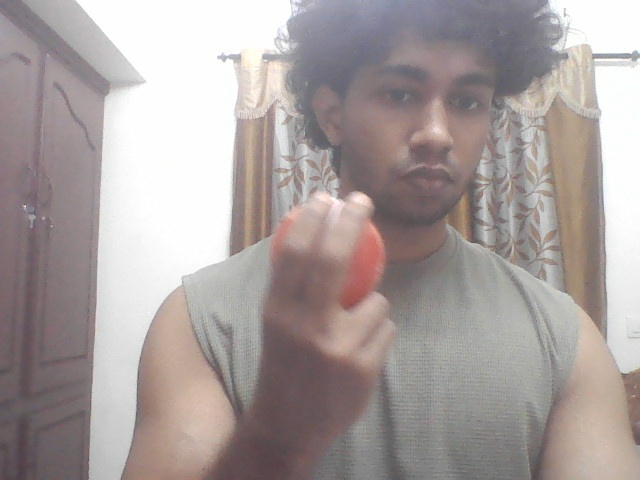cricket_ball: (263, 201, 399, 312)
